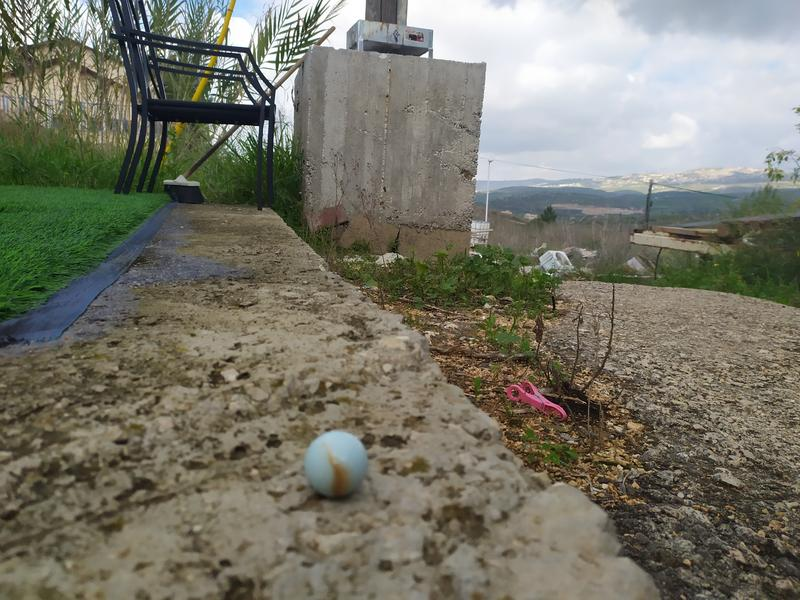Warning: (301, 429, 371, 503)
